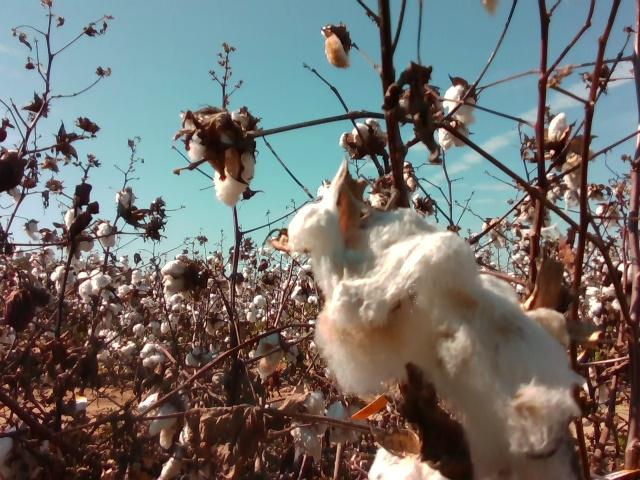cotton_ready: (289, 156, 586, 480), (187, 119, 257, 206), (366, 439, 449, 480), (0, 425, 52, 480), (291, 391, 326, 463), (138, 392, 182, 449), (252, 332, 299, 384), (549, 114, 598, 162), (327, 399, 369, 445), (65, 207, 95, 260), (370, 175, 413, 210), (162, 255, 194, 302), (339, 119, 382, 152), (443, 85, 477, 126), (321, 25, 349, 69), (586, 284, 624, 316), (77, 269, 113, 300), (439, 124, 470, 151), (50, 264, 77, 292), (115, 187, 138, 214), (402, 159, 418, 191), (97, 223, 117, 248)
